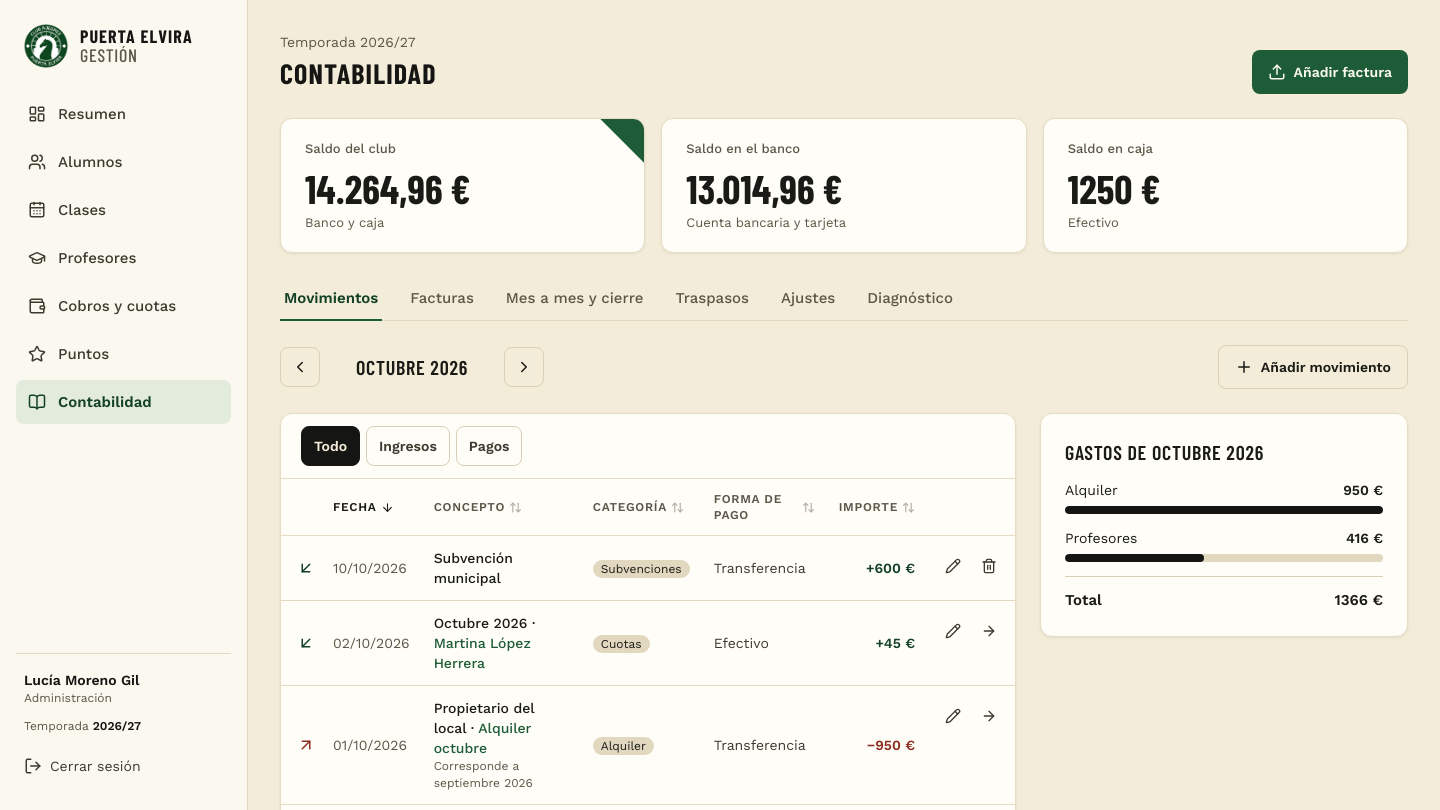
Test: Contabilidad › edits a movement after confirming what changes; a payment only in accounting
Click the button named "Editar Octubre 2026 · Martina López Herrera". click: (953, 631)
box: [935,613,971,649]
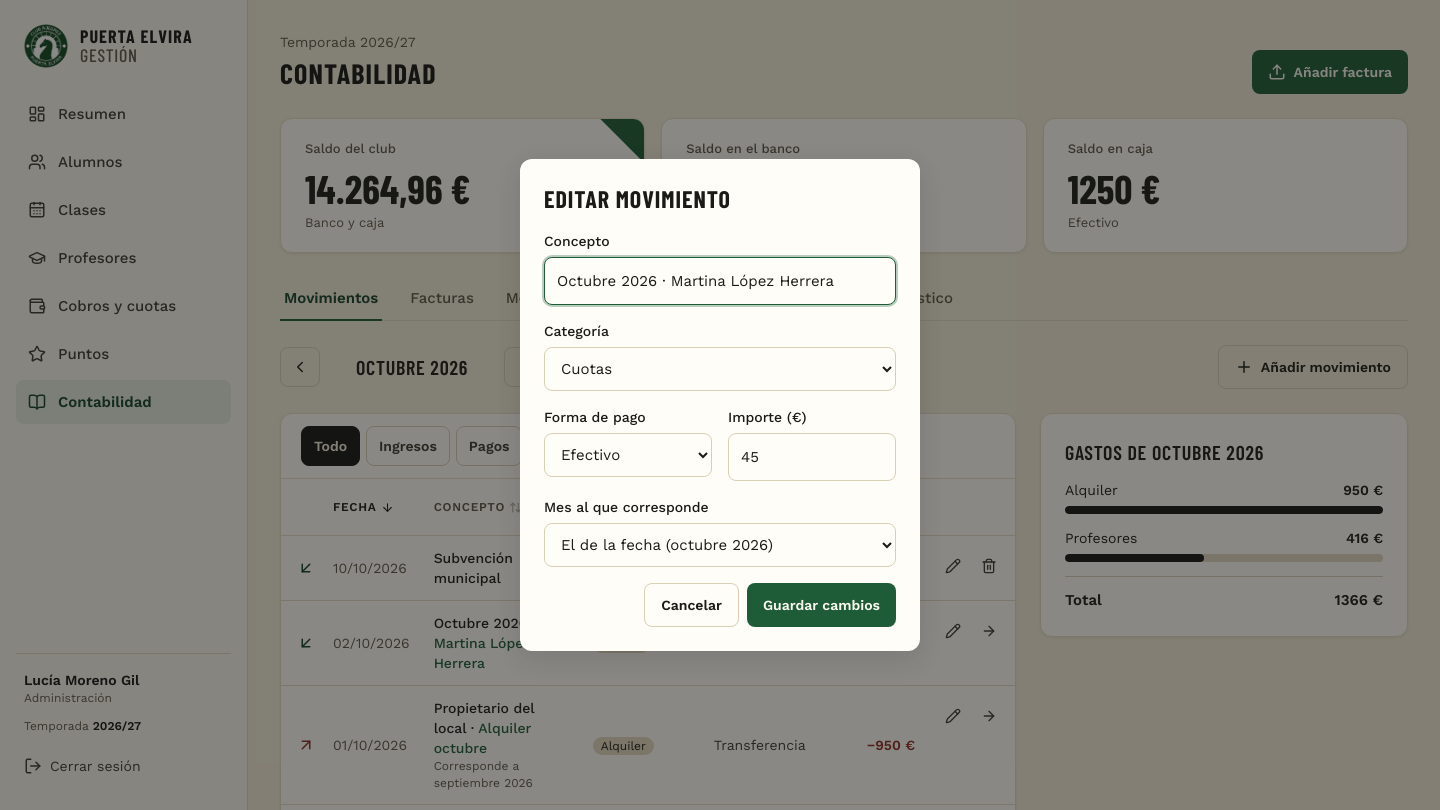
Expected: the field labelled "Importe (€)" holds "45"
Replace the text in the field labelled "Importe (€)" with "40". click: (812, 457)
box: [728,433,896,481]
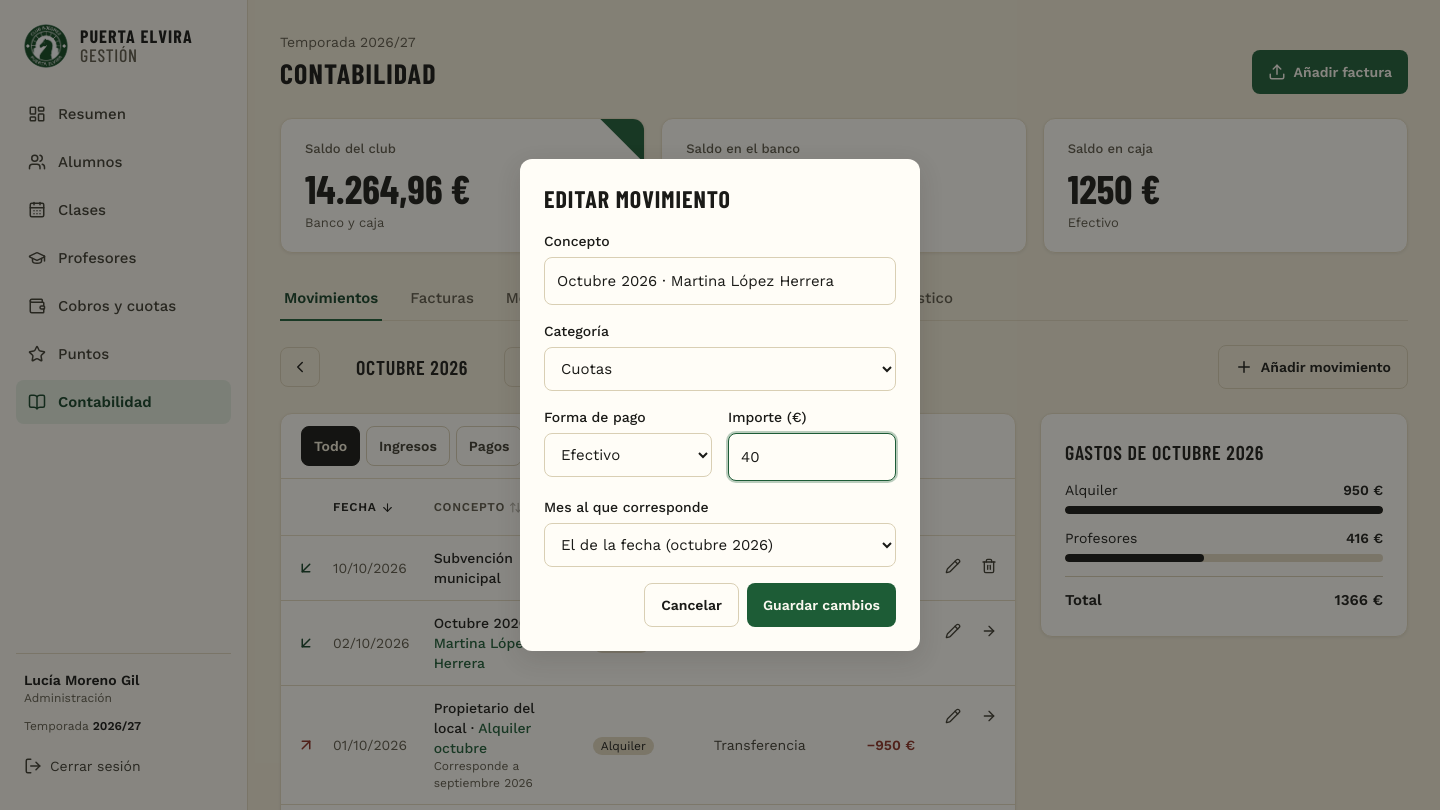
Select "Transferencia" in the dropdown labelled "Forma de pago". click: (628, 455)
box: [544,433,712,477]
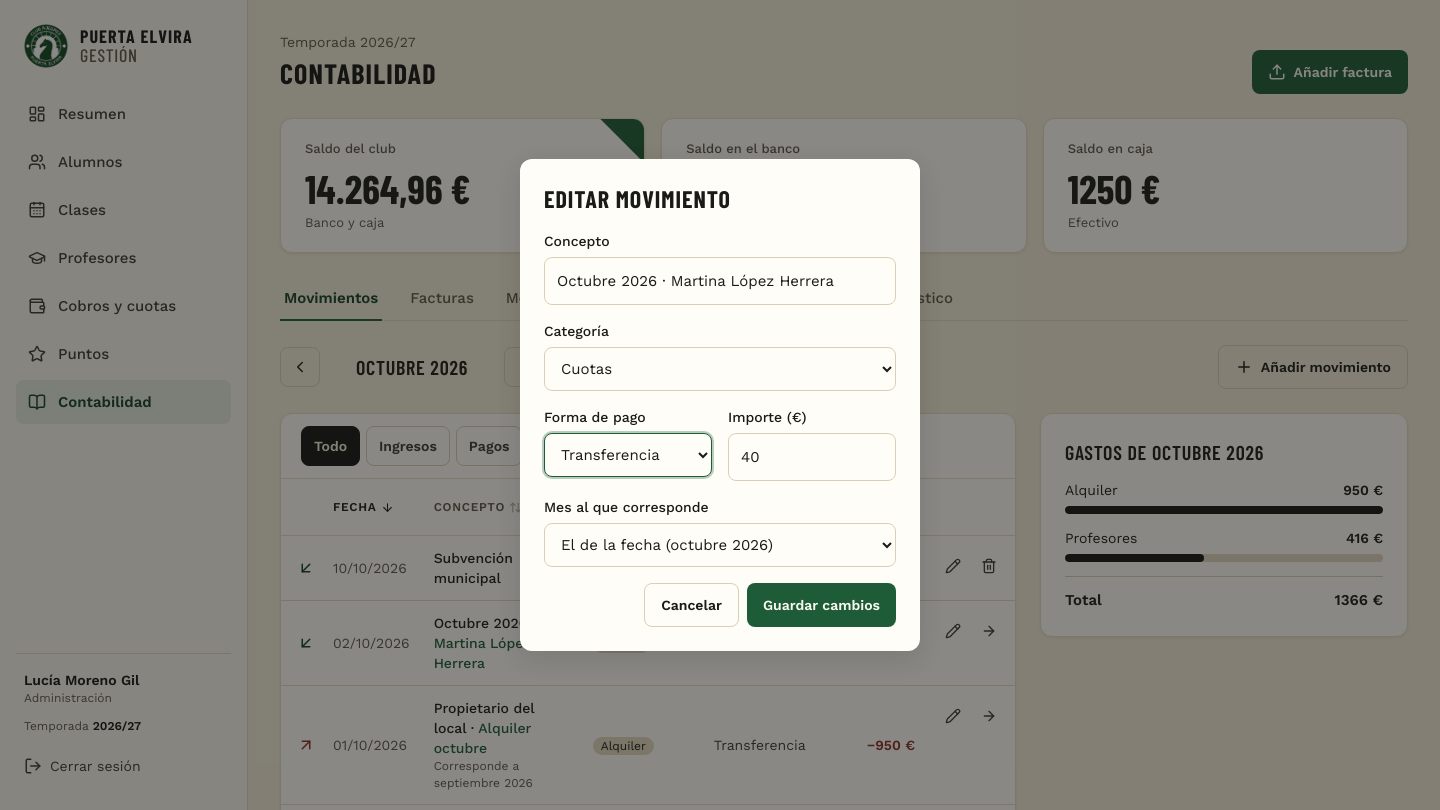
Click the button "Guardar cambios". click: (822, 605)
box: [747,583,896,627]
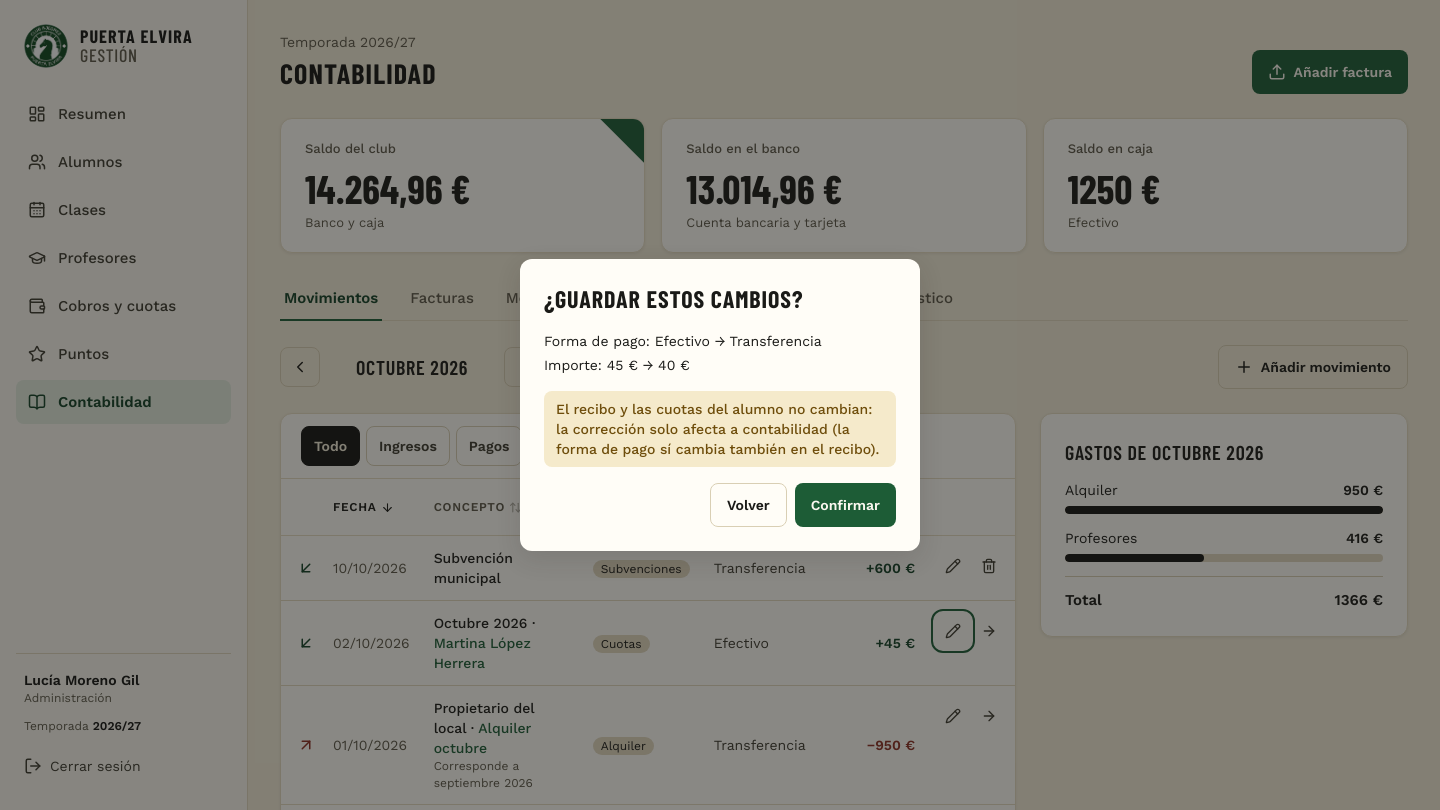
Expected: the list item "Importe: 45 € → 40 €" is shown, [544,357,690,373]
Expected: the list item "Forma de pago: Efectivo → Transferencia" is shown, [544,333,822,349]
Expected: the text "El recibo y las cuotas del alumno no cambian" is shown, [556,401,879,457]
Click the button "Confirmar". click: (845, 505)
box: [795,483,896,527]
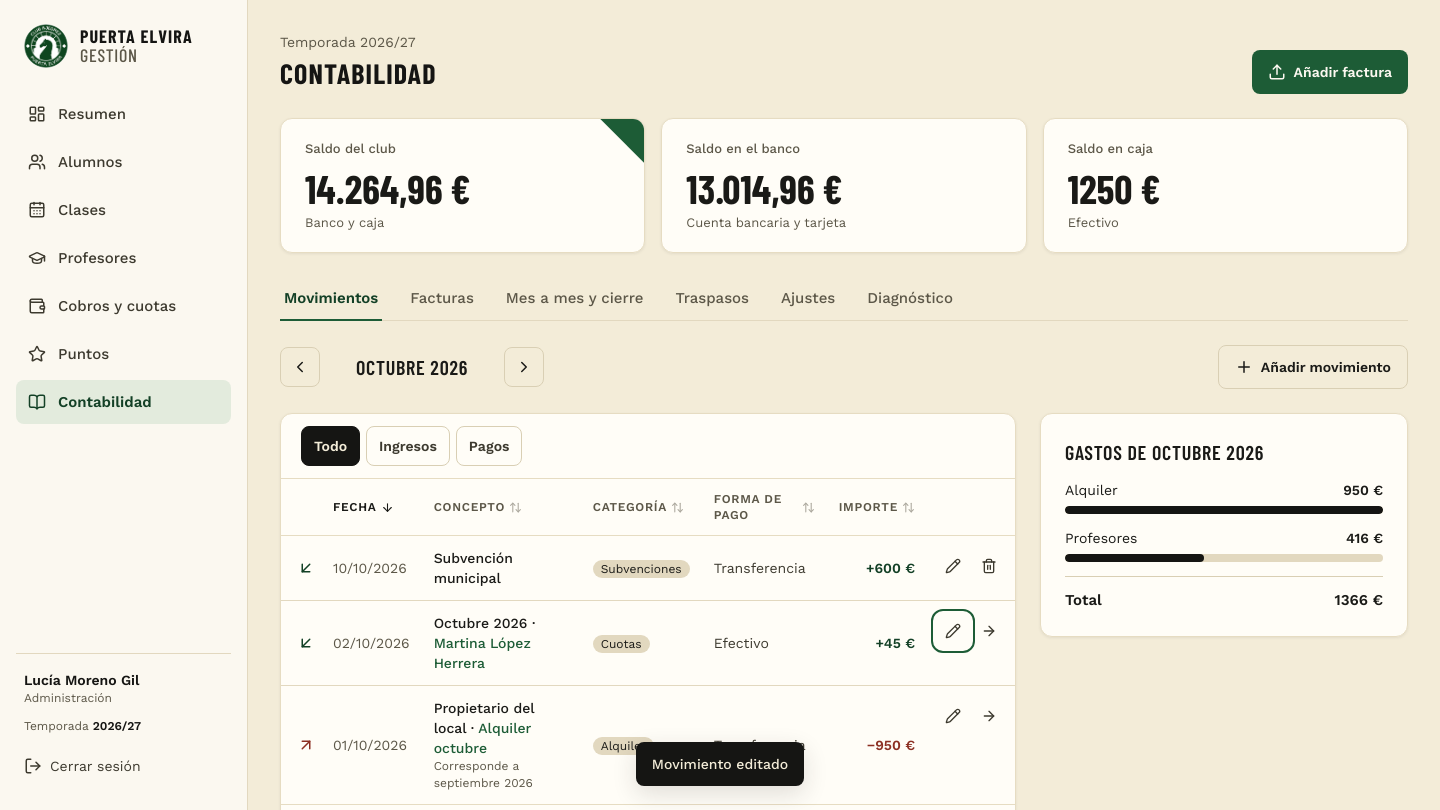
Expected: the text "Movimiento editado" is shown, [636,742,804,786]
